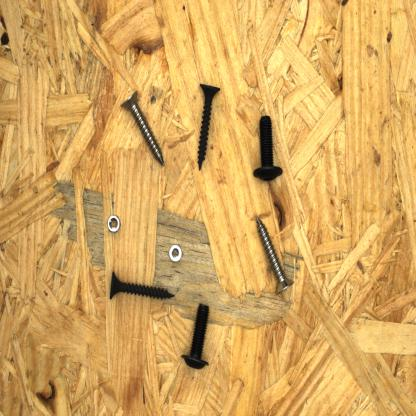screw: (118, 87, 168, 168), (254, 212, 296, 297), (108, 267, 177, 306), (250, 112, 285, 184), (178, 299, 212, 373), (195, 81, 222, 173)
